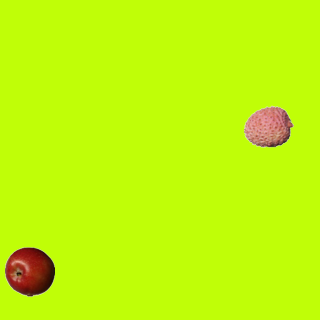Apple Braeburn: (4, 246, 54, 296)
Lychee: (243, 101, 293, 151)
